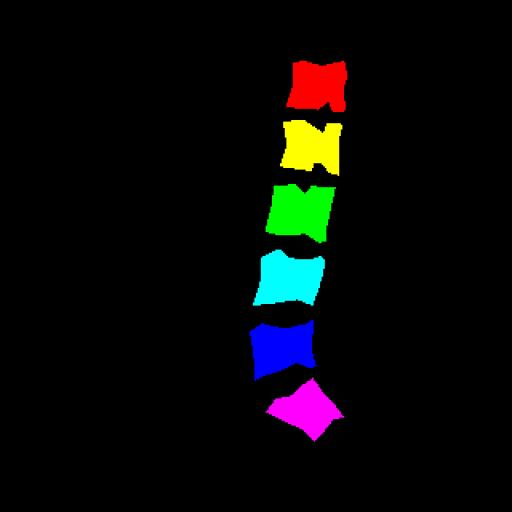L1: (286, 61, 347, 112)
L2: (280, 120, 342, 175)
L3: (266, 184, 335, 242)
L4: (253, 250, 325, 306)
L5: (250, 320, 315, 380)
S1: (266, 378, 344, 441)
